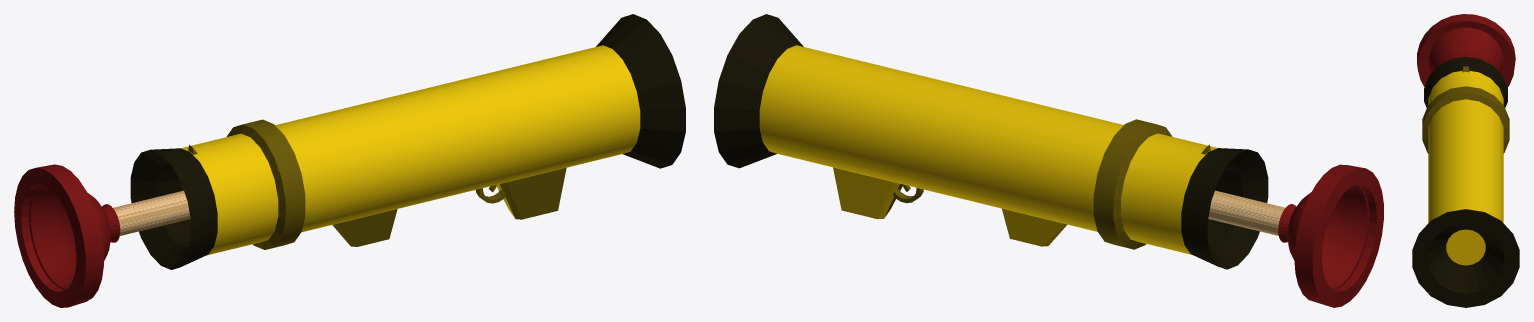
File: y4bazookaGold.fbx
The picture shows the model from 3 angles, left to right: view 1: azimuth 30°, elevation 25°; view 2: azimuth 150°, elevation 25°; view 3: azimuth 270°, elevation 25°; orthographic projection. The views are drawn at different scales.
Parts seen in each view (by area): view 1: Cylinder001, Sphere001; view 2: Cylinder001, Sphere001; view 3: Cylinder001, Sphere001.
Part boxes in pixels (box(x1,y1,x2,y2)): Cylinder001: box(130, 14, 685, 269); Sphere001: box(14, 164, 190, 307); Cylinder001: box(714, 14, 1268, 269); Sphere001: box(1208, 164, 1383, 307); Cylinder001: box(1412, 56, 1519, 307); Sphere001: box(1417, 14, 1515, 87).
Size of the model in its own units: 48.75 by 13.06 by 11.02.
Materials: 5 (1 with a texture image).
